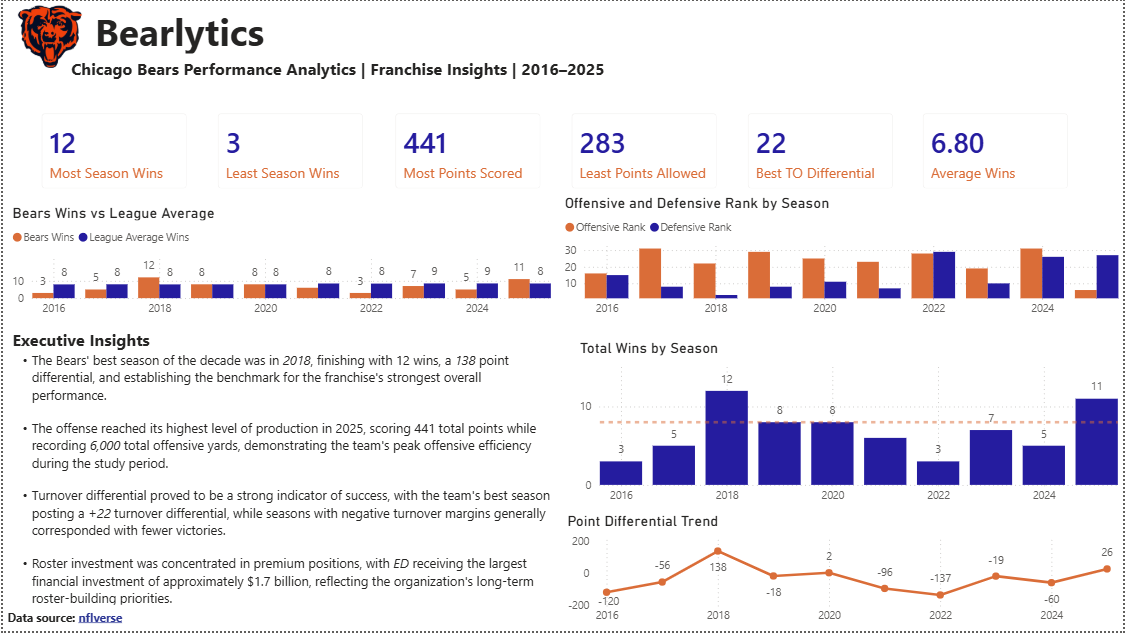

Layout of this report page (visuals, bound fields, positions):
{"tool":"powerbi","page":{"name":"Franchise Insights","canvas":[1280,720],"ordinal":4},"visuals":[{"type":"textbox","box":[100,0,220,90],"z":0},{"type":"image","box":[0,0,106.7,81.7],"z":1000},{"type":"textbox","box":[73.3,60,681.7,36.7],"z":2000},{"type":"cardVisual","fields":{"Data":["Measuress.Best Season Wins"]},"box":[26.8,111.4,200,120],"z":3000},{"type":"cardVisual","fields":{"Data":["Measuress.Worst Season Wins"]},"box":[228.8,111.4,200,120],"z":4000},{"type":"cardVisual","fields":{"Data":["Dim Date.Highest Points Scored"]},"box":[430.8,111.4,200,120],"z":5000},{"type":"cardVisual","fields":{"Data":["Dim Date.Lowest Points Allowed"]},"box":[632.8,111.4,200,120],"z":6000},{"type":"cardVisual","fields":{"Data":["Dim Date.Best Turnover Differential"]},"box":[834.8,111.4,200,120],"z":7000},{"type":"cardVisual","fields":{"Data":["Dim Date.Average Wins"]},"box":[1034.3,111.4,200,120],"z":8000},{"type":"clusteredColumnChart","title":"Bears Wins vs League Average","fields":{"Category":["Dim Season.Season"],"Y":["Measuress.Total Wins","Measuress.League Average Wins"]},"box":[5.8,231.4,625.6,138.4],"z":9000},{"type":"lineChart","title":"Point Differential Trend","fields":{"Category":["Dim Season.Season"],"Y":["Sum(Fact Team Stats.Point_Differential)"]},"box":[640,583.8,640,136.2],"z":11000},{"type":"clusteredColumnChart","fields":{"Category":["Dim Season.Season"],"Y":["Measuress.Total Wins"]},"box":[655,386.2,625,197.5],"z":12000},{"type":"textbox","box":[5.8,369.8,625.6,350],"z":13000},{"type":"textbox","box":[0,690,150,28],"z":13001},{"type":"clusteredColumnChart","title":"Offensive and Defensive Rank by Season","fields":{"Category":["Dim Season.Season"],"Y":["Sum(Fact League Stats.Offensive_Rank)","Sum(Fact League Stats.Defensive_Rank)"]},"box":[637.1,220,642.9,150],"z":13002}]}

Visuals, with their boxes in screenshot pixels (x1, y1, x2, y2), scaled from the page's 1280x720 canvas onto the 1127x636 screenshot:
textbox: [x1=88, y1=0, x2=282, y2=80]
image: [x1=0, y1=0, x2=94, y2=72]
textbox: [x1=65, y1=53, x2=665, y2=85]
cardVisual - Measuress.Best Season Wins: [x1=24, y1=98, x2=200, y2=204]
cardVisual - Measuress.Worst Season Wins: [x1=201, y1=98, x2=378, y2=204]
cardVisual - Dim Date.Highest Points Scored: [x1=379, y1=98, x2=555, y2=204]
cardVisual - Dim Date.Lowest Points Allowed: [x1=557, y1=98, x2=733, y2=204]
cardVisual - Dim Date.Best Turnover Differential: [x1=735, y1=98, x2=911, y2=204]
cardVisual - Dim Date.Average Wins: [x1=911, y1=98, x2=1087, y2=204]
"Bears Wins vs League Average" clusteredColumnChart: [x1=5, y1=204, x2=556, y2=327]
"Point Differential Trend" lineChart: [x1=564, y1=516, x2=1126, y2=635]
clusteredColumnChart - Dim Season.Season x Measuress.Total Wins: [x1=577, y1=341, x2=1126, y2=516]
textbox: [x1=5, y1=327, x2=556, y2=635]
textbox: [x1=0, y1=610, x2=132, y2=634]
"Offensive and Defensive Rank by Season" clusteredColumnChart: [x1=561, y1=194, x2=1126, y2=327]
